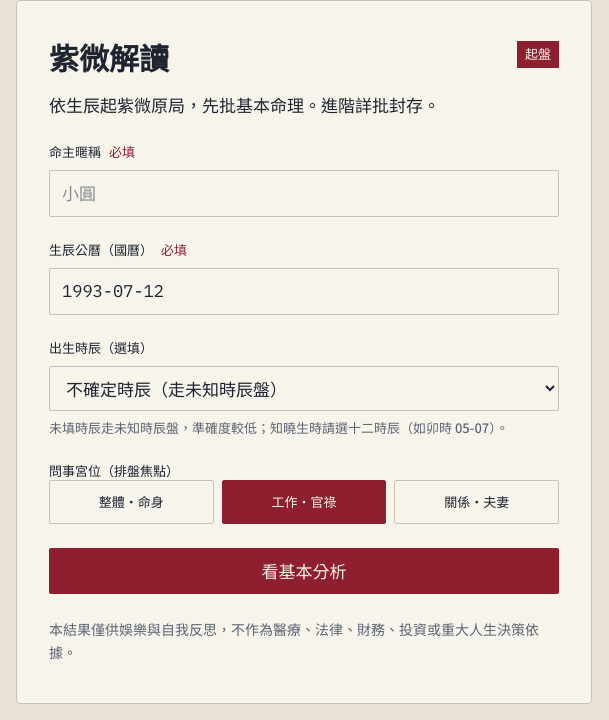
HomeClient 高風險與失敗分流 › keeps field validation on the form and does not show the generation-fail H1
Clear the field labelled "命主暱稱": (304,194) [49,170,559,217]
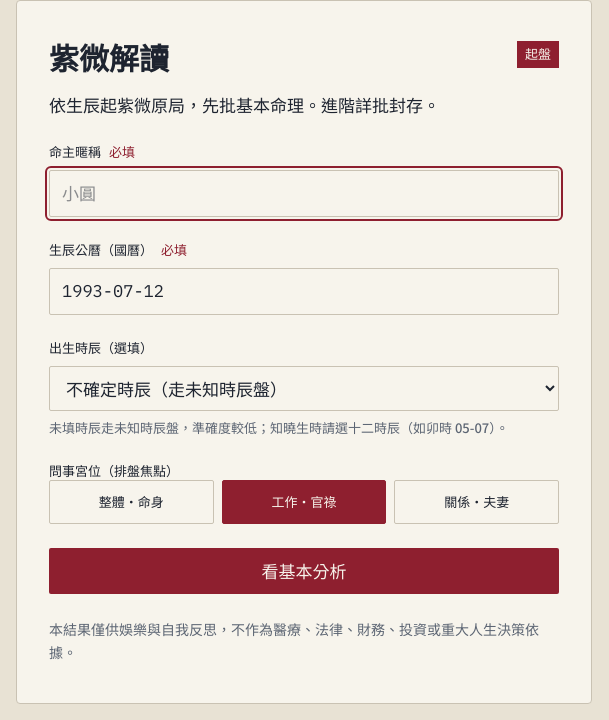
Click the button "看基本分析": (304,571) [49,548,559,594]
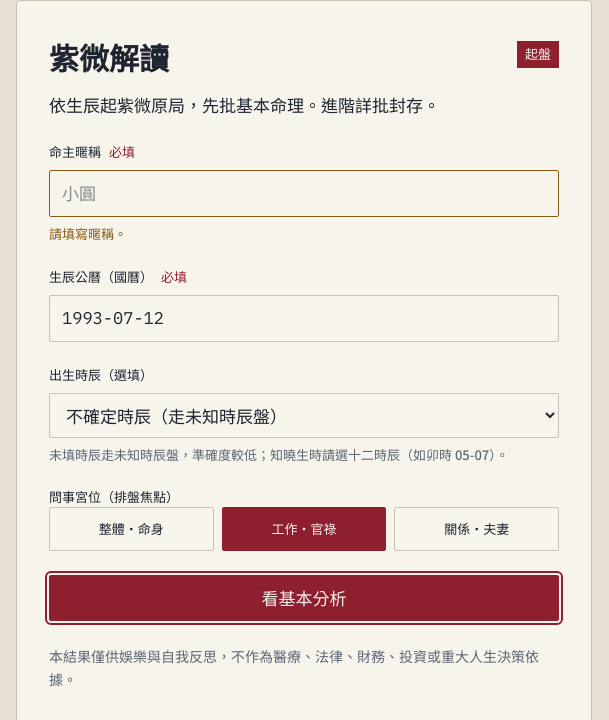
Now the text "請填寫暱稱。" is shown, box [49,224,127,243]
